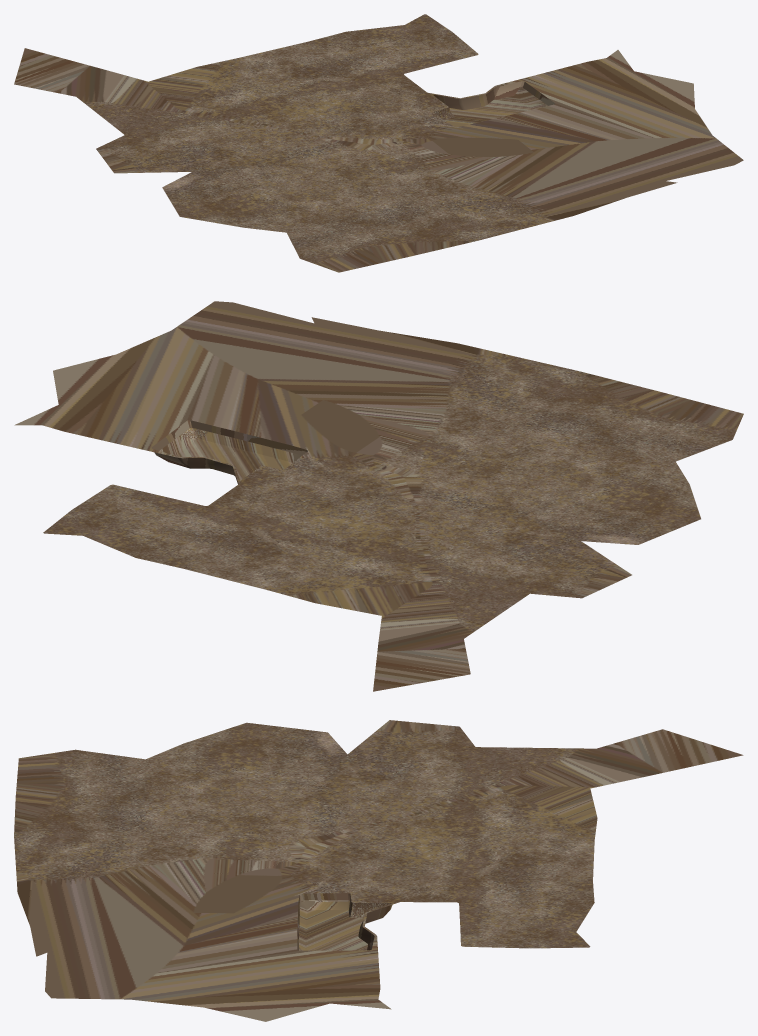
File: suelo_t_3.obj
The picture shows the model from 3 angles, top to bottom: view 1: azimuth 30°, elevation 25°; view 2: azimuth 150°, elevation 25°; view 3: azimuth 270°, elevation 25°; orthographic projection. The views are drawn at different scales.
Parts seen in each view (by area): view 1: suelo_t_3; view 2: suelo_t_3; view 3: suelo_t_3.
Part boxes in pixels (bbox=[...]): suelo_t_3: bbox=[14, 14, 743, 272]; suelo_t_3: bbox=[14, 301, 743, 691]; suelo_t_3: bbox=[14, 720, 743, 1021].
Size of the model in its own units: 295 by 5.43 by 301.
